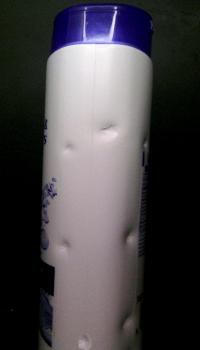dent_unacceptable: (113, 306, 140, 338), (89, 122, 122, 146), (66, 327, 99, 350), (115, 225, 140, 253), (53, 236, 75, 259), (58, 141, 84, 160), (136, 134, 152, 151)
